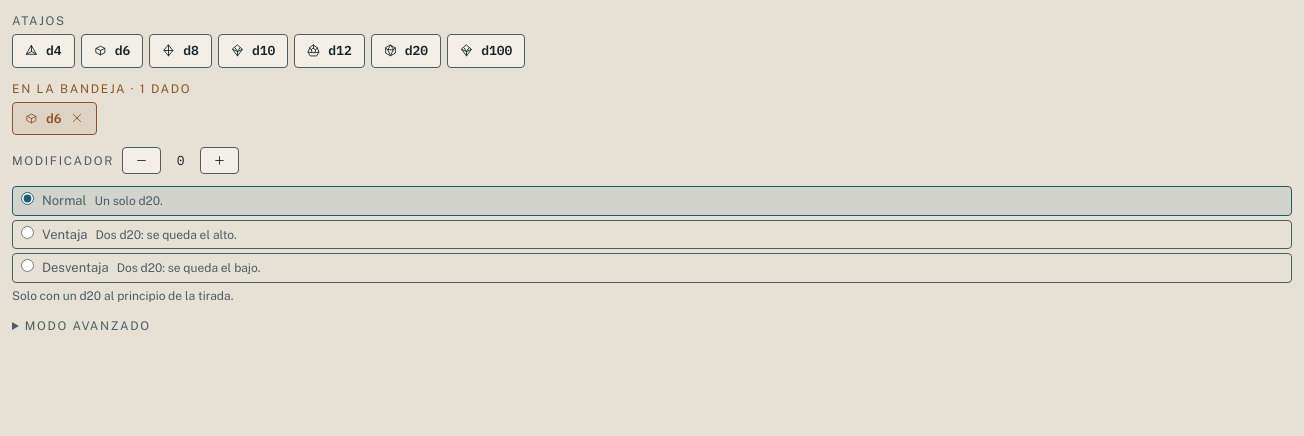
BandejaDeDados › plegar el modo avanzado después de escribir devuelve el control a la bandeja
Click the heading "Modo avanzado" at point(88, 326), box [25,318,151,332]
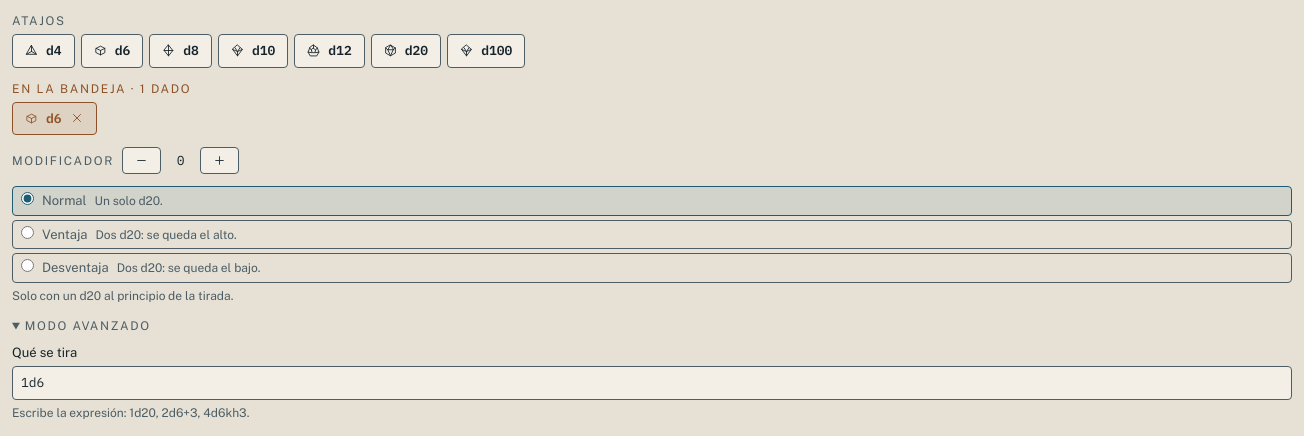
Replace the text in the field labelled "Qué se tira" with "4d6kh3" at point(652, 383), box [12,366,1292,400]
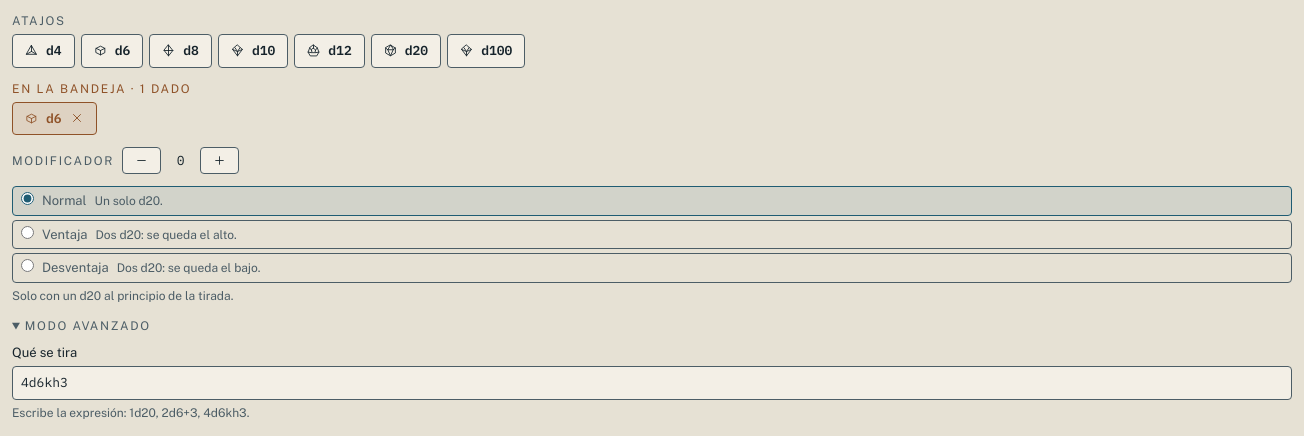
Se pliega: el mismo rótulo, un segundo clic.
Click the heading "Modo avanzado" at point(88, 326), box [25,318,151,332]
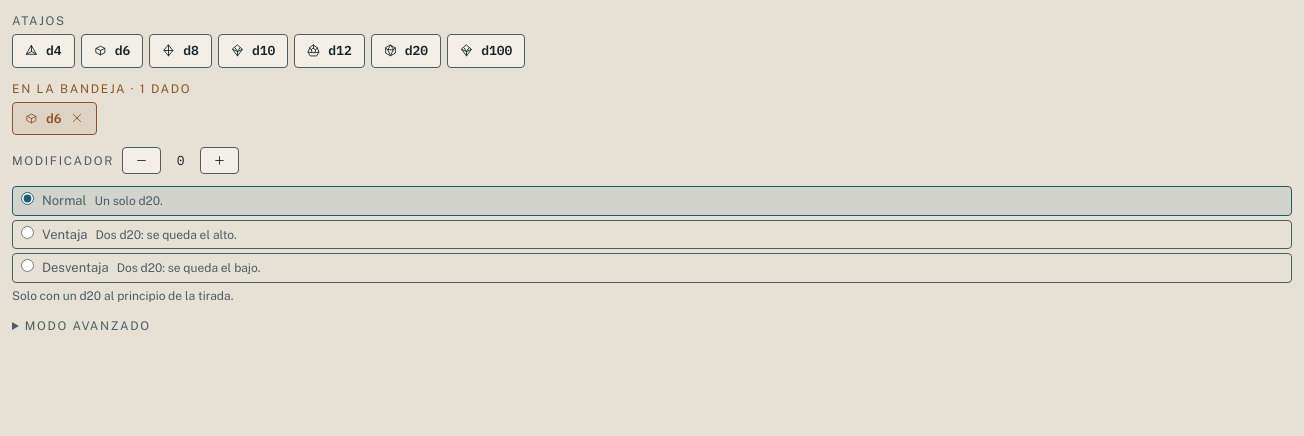
Check: the label labelled "Qué se tira" is gone
